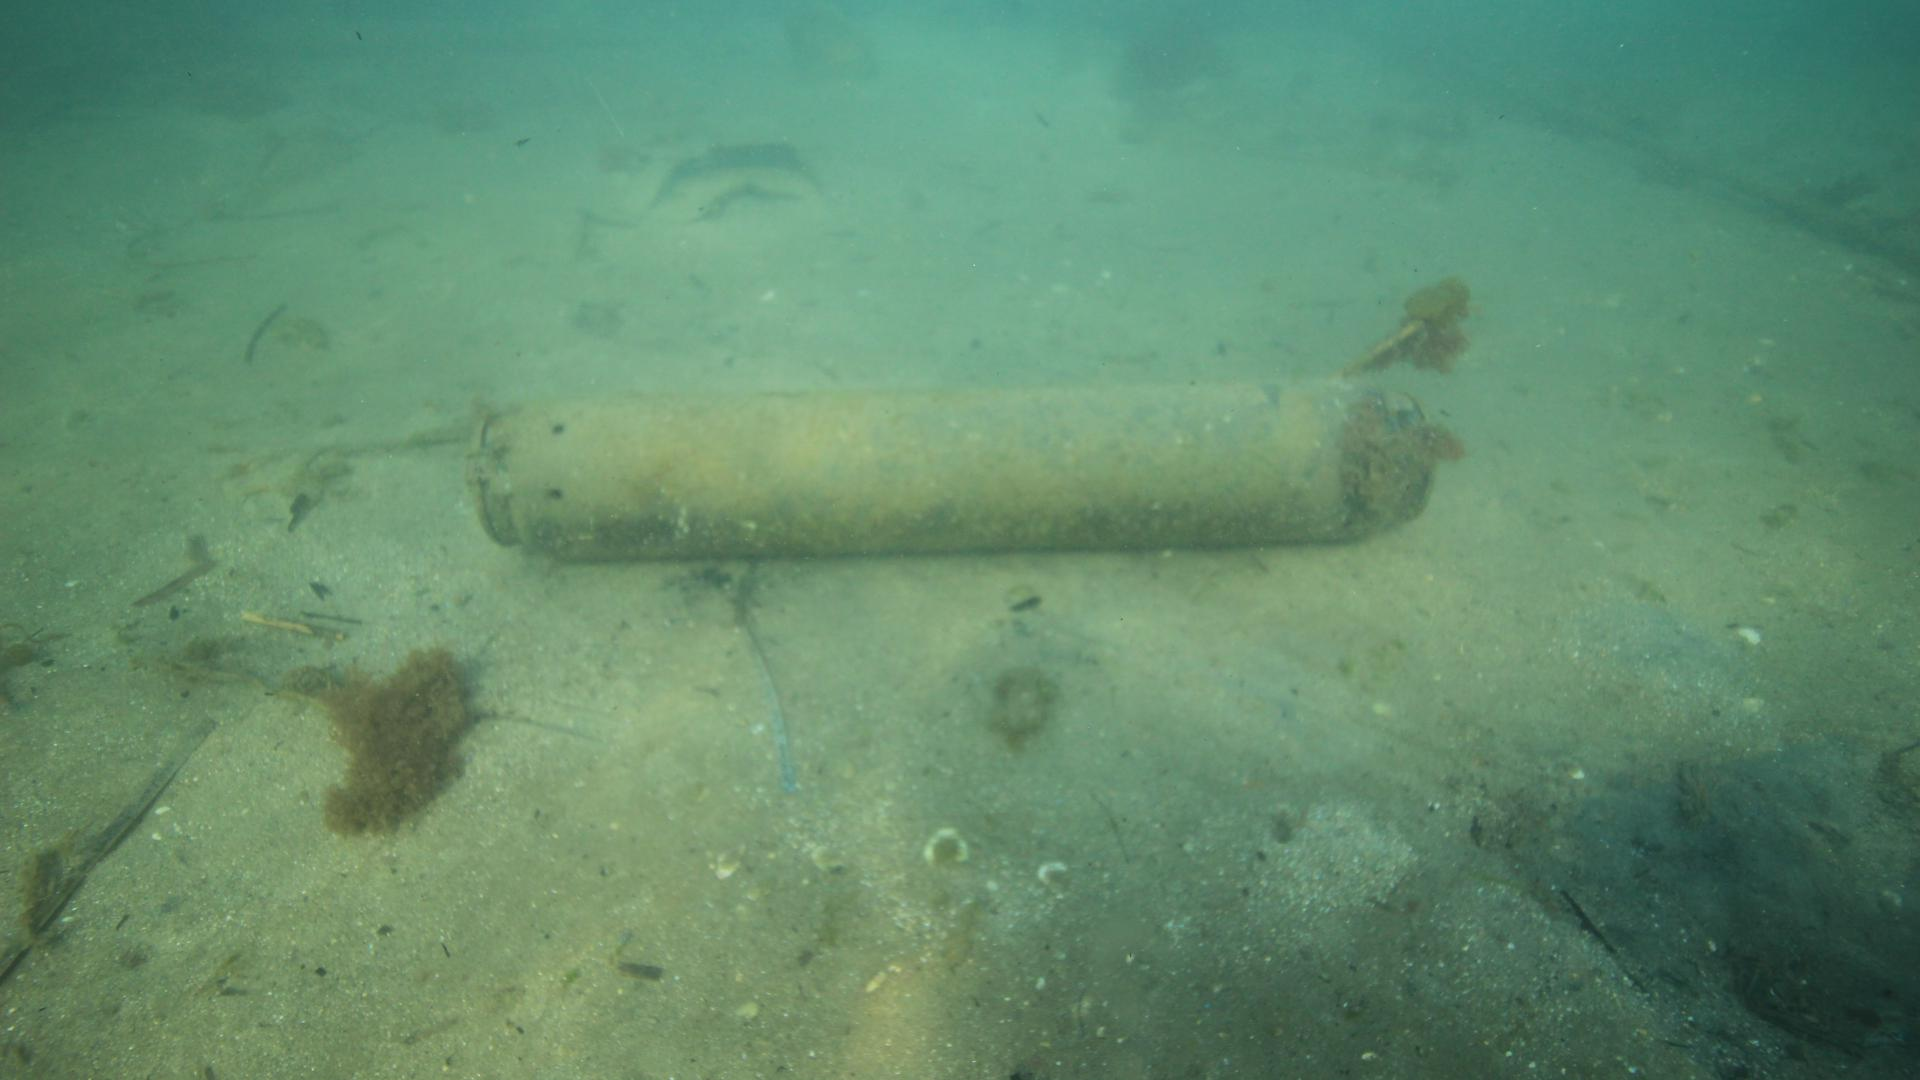eel fish trap: (469, 377, 1441, 564)
